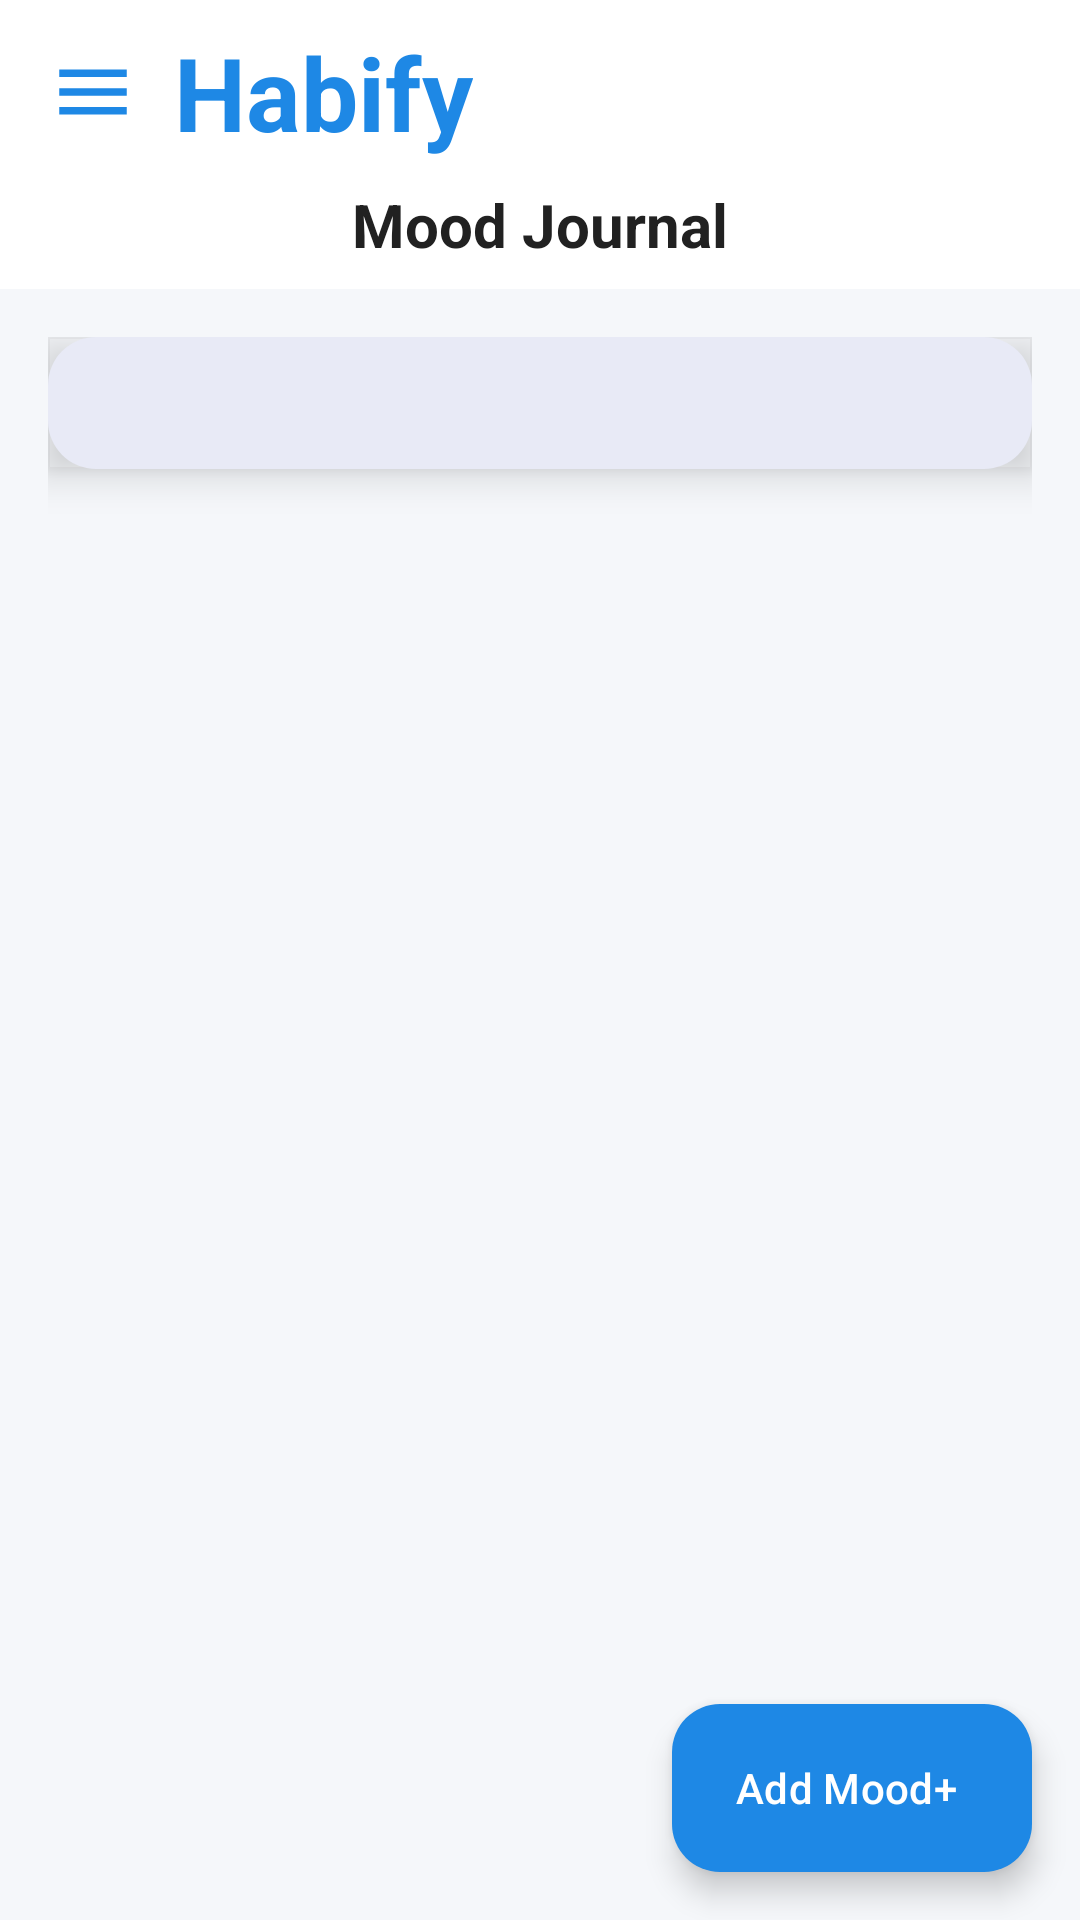

Where icons sit on this 1080x1920 app screen, as bbox(x1, y1, x2, y2):
Menu: bbox(59, 69, 127, 115)
